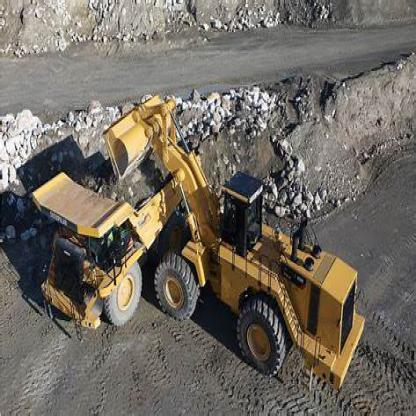bull_dozer/loader/grader: (99, 81, 397, 406)
dump_truck: (29, 156, 175, 342)
